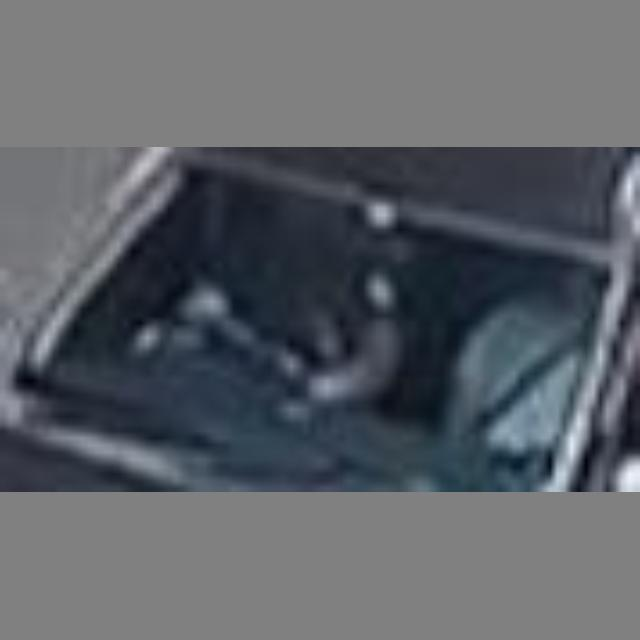pakai: (158, 183, 403, 413), (446, 248, 590, 463)
